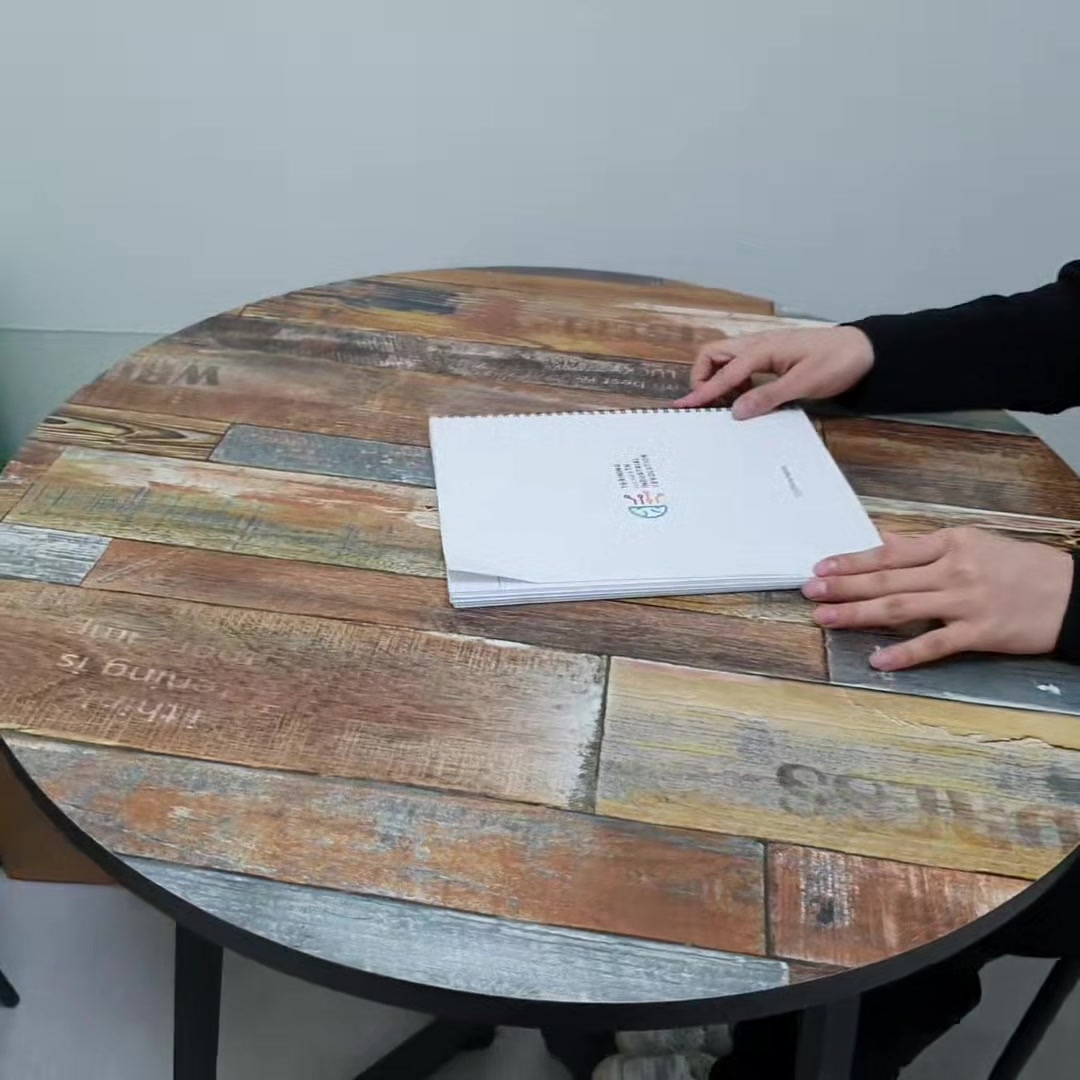book: (419, 386, 894, 608)
